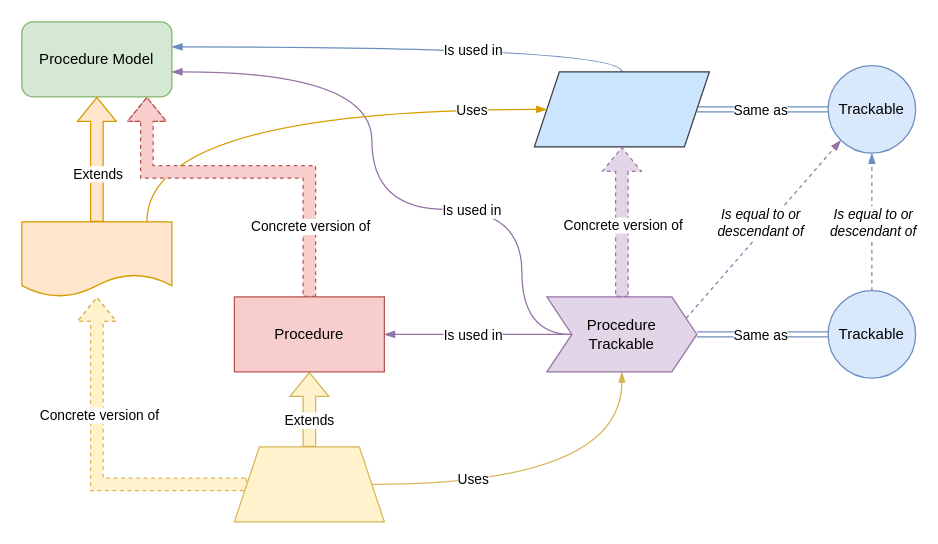
The diagram is 938 pixels wide and 544 high, and some of its shapes have lost their labels. Here are the shapes that lost their labels. From the top down, the centre of each, then its label:
At point 621,109: "Procedure Model Trackable".
At point 96,259: "Weighing Procedure Model".
At point 308,484: "Weighing Procedure".
